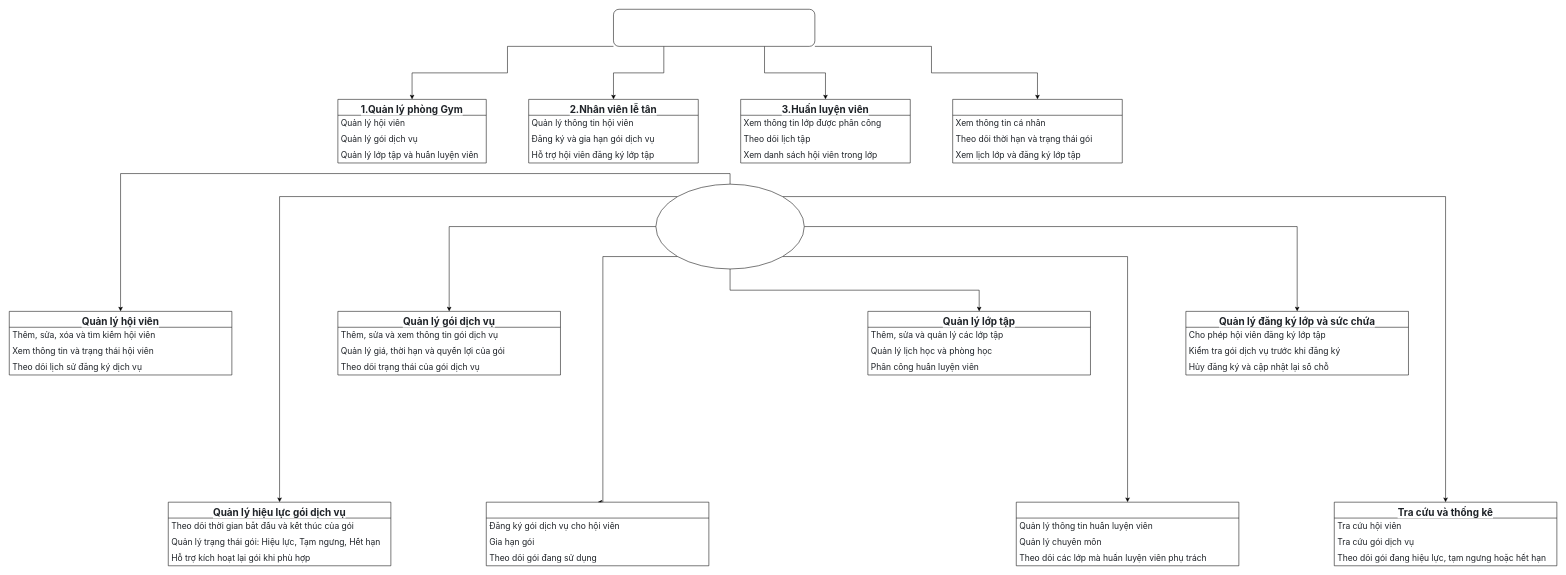
Some shapes in this 1566 by 575 pixel diagram are drawn without their labels. The shapes that lost their labels are listed below. From the top down, each one's box as (x1, y1, x2, y2) in pixels, then its label:
(613, 9, 815, 46): HỆ THỐNG QUẢN LÝ PHÒNG GYM
(952, 99, 1122, 163): 4.Hội viên
(655, 184, 804, 269): CÁC CHỨC NĂNG CHÍNH
(486, 502, 709, 566): Quản lý đăng ký gói
(1016, 502, 1239, 566): Quản lý huấn luyện viên
